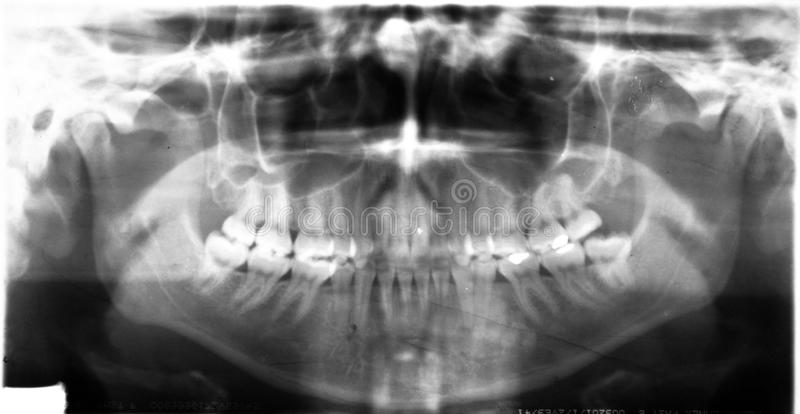canine: (449, 252, 475, 340), (348, 191, 373, 268), (353, 258, 377, 337), (449, 199, 471, 269)
incisor: (431, 257, 451, 338), (378, 258, 396, 339), (411, 259, 430, 317), (396, 260, 411, 322)
molar: (535, 248, 608, 317), (272, 254, 339, 325), (493, 254, 559, 326), (188, 232, 248, 305), (229, 248, 288, 310), (289, 184, 337, 258), (585, 232, 637, 296), (522, 180, 566, 252), (254, 186, 295, 255), (556, 180, 603, 238), (224, 182, 259, 238)
premolar: (470, 253, 498, 330), (328, 184, 353, 260), (329, 257, 354, 324)
